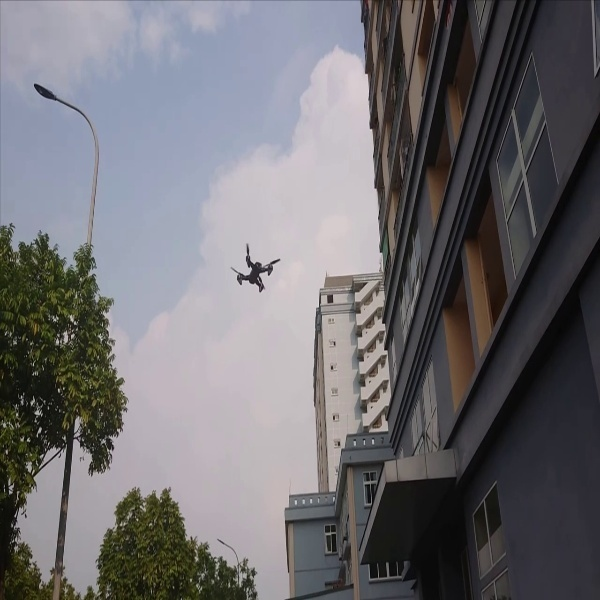drone: (228, 237, 280, 297)
